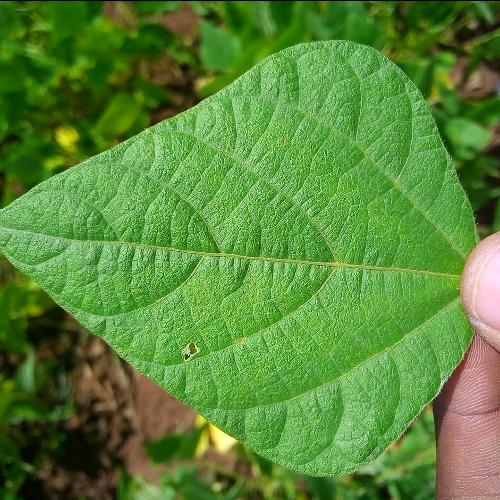hawar: (174, 334, 222, 360)
sehat: (153, 138, 434, 286)
